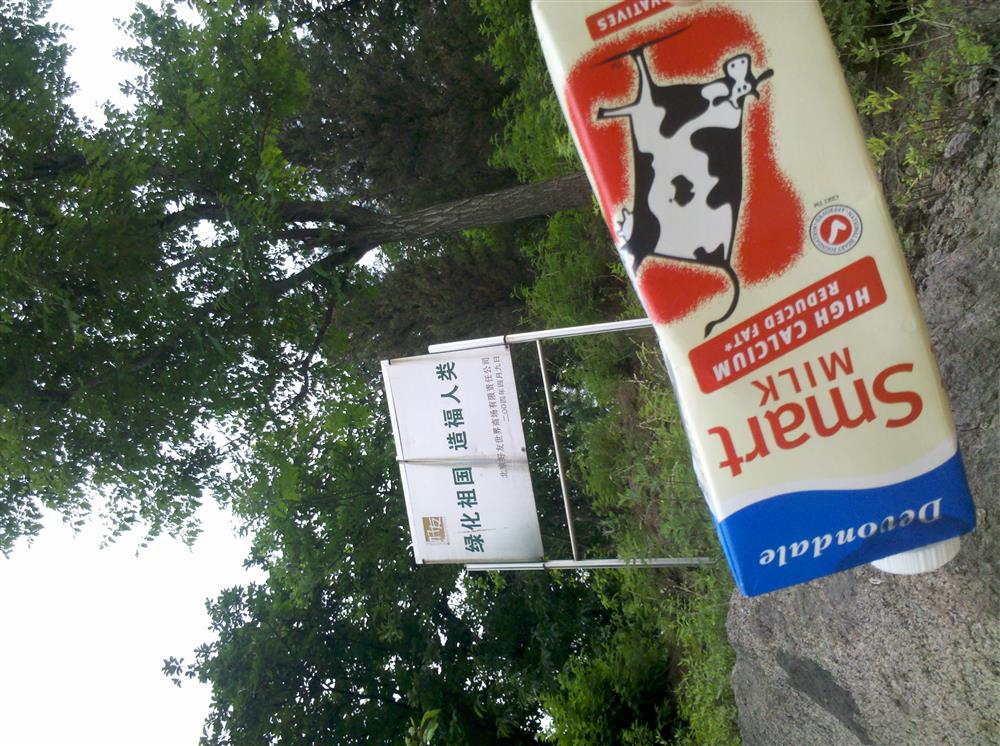Smart_Milk: (523, 1, 980, 603)
